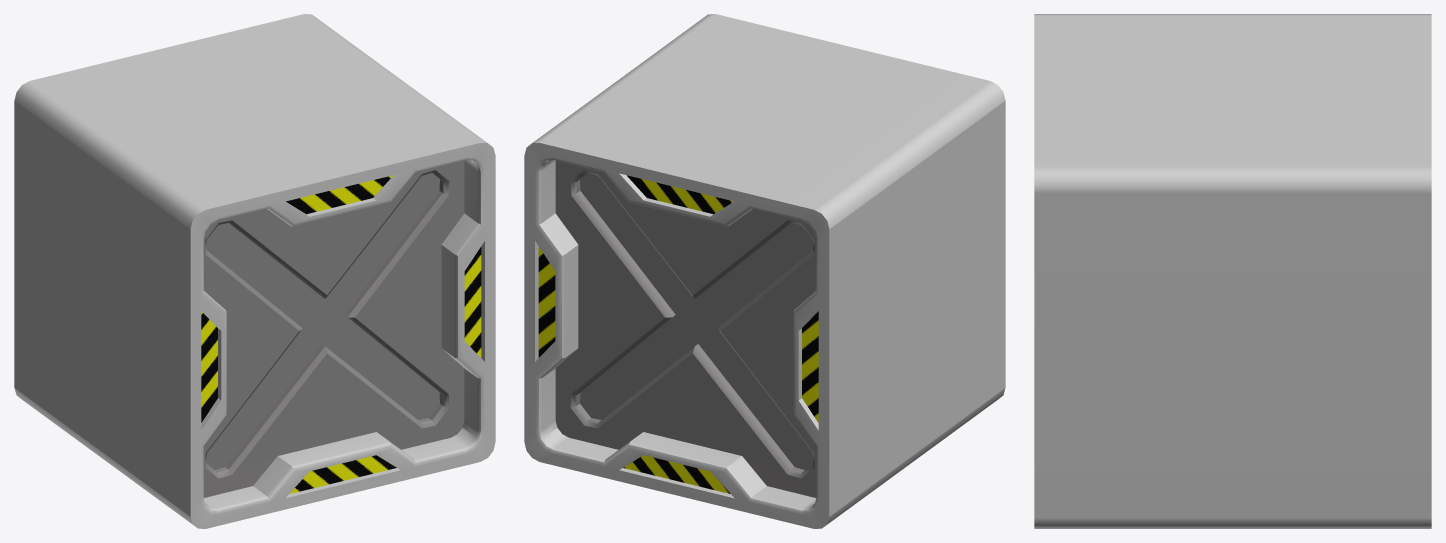
The model's file is blockobstacle2.fbx.
3 views of the same model, side by side, from view 1: azimuth 30°, elevation 25°; view 2: azimuth 150°, elevation 25°; view 3: azimuth 270°, elevation 25° (orthographic). The views are drawn at different scales.
Parts seen in each view (by area): view 1: pCube7; view 2: pCube7; view 3: pCube7.
Part boxes in pixels (x1=…): pCube7: x1=14, y1=14, x2=495, y2=528; pCube7: x1=524, y1=14, x2=1005, y2=528; pCube7: x1=1034, y1=14, x2=1431, y2=528.
Size of the model in its own units: 100 by 100 by 100.
